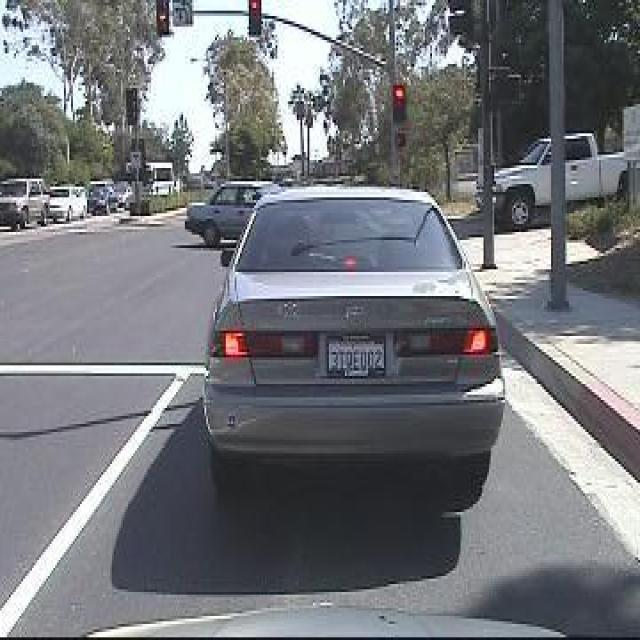car_back: (198, 168, 517, 536)
car_front: (0, 168, 45, 232), (41, 178, 83, 226)
